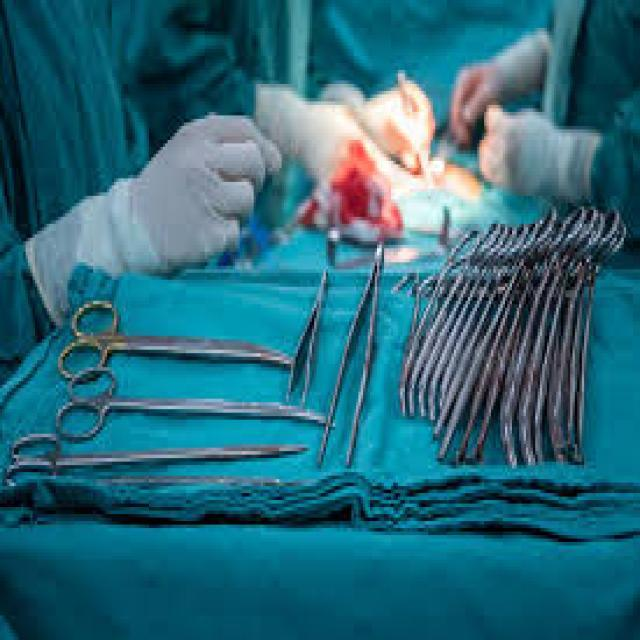tools_table: (0, 276, 640, 640)
